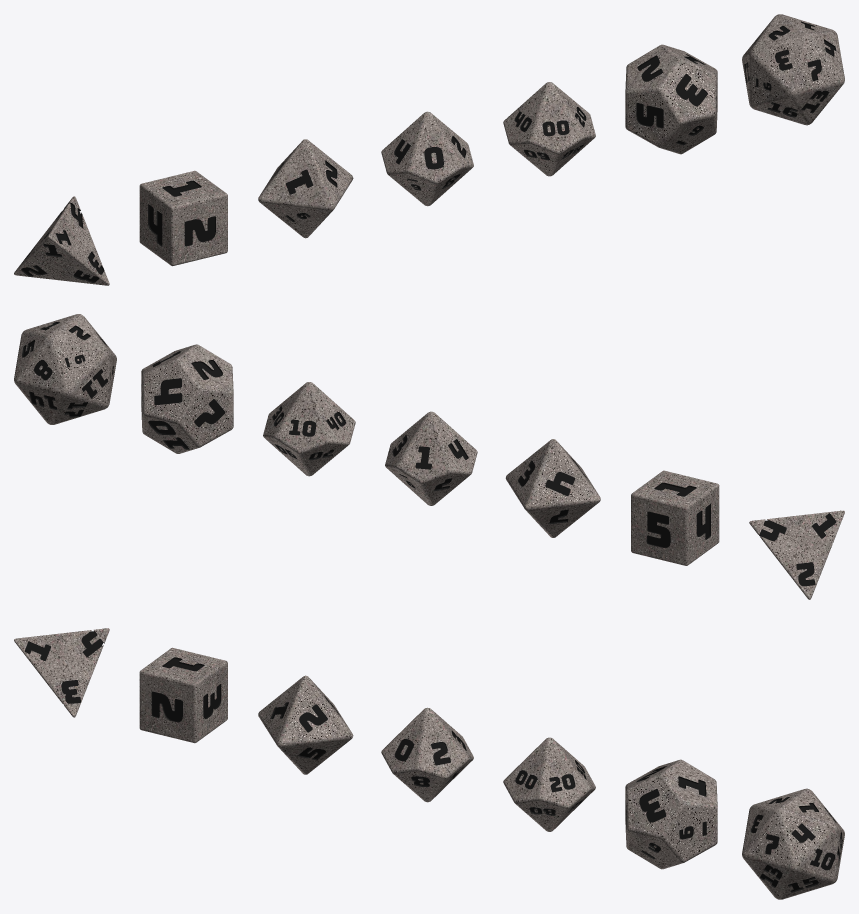
The model's file is granite.glb.
3 views of the same model, one above another, from view 1: azimuth 30°, elevation 25°; view 2: azimuth 150°, elevation 25°; view 3: azimuth 330°, elevation 25° (orthographic).
Visible parts, largest first — view 1: d20, d12, d6, d100, d10, d8, d4; view 2: d20, d12, d6, d100, d10, d8, d4; view 3: d20, d12, d6, d8, d100, d10, d4.
Part boxes in pixels (x1=…): d20: x1=742, y1=14, x2=844, y2=125; d12: x1=625, y1=44, x2=717, y2=154; d6: x1=139, y1=170, x2=227, y2=266; d100: x1=503, y1=82, x2=595, y2=176; d10: x1=381, y1=111, x2=473, y2=206; d8: x1=258, y1=139, x2=353, y2=238; d4: x1=14, y1=196, x2=109, y2=285; d20: x1=14, y1=314, x2=116, y2=424; d12: x1=141, y1=344, x2=233, y2=453; d6: x1=631, y1=470, x2=719, y2=565; d100: x1=263, y1=382, x2=355, y2=476; d10: x1=385, y1=411, x2=477, y2=505; d8: x1=505, y1=439, x2=600, y2=537; d4: x1=749, y1=510, x2=844, y2=599; d20: x1=742, y1=788, x2=844, y2=899; d12: x1=625, y1=759, x2=717, y2=869; d6: x1=139, y1=647, x2=227, y2=743; d8: x1=258, y1=675, x2=353, y2=774; d100: x1=503, y1=737, x2=595, y2=831; d10: x1=381, y1=707, x2=473, y2=802; d4: x1=14, y1=628, x2=109, y2=717.
Bounding box in the file's own units: 21.14 × 2.47 × 2.47.
Materials: 14 (7 with a texture image).
